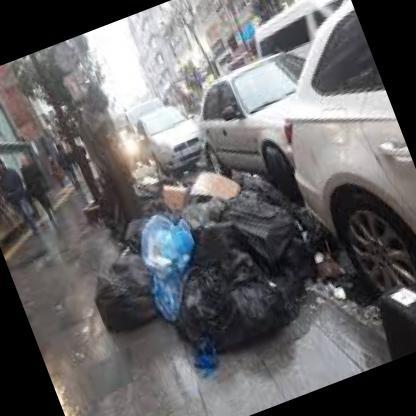Garbage: (128, 157, 340, 366), (80, 214, 224, 339)
